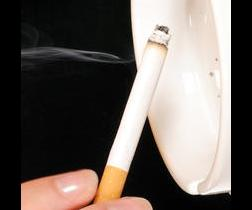Cigarette: (94, 24, 172, 205)
